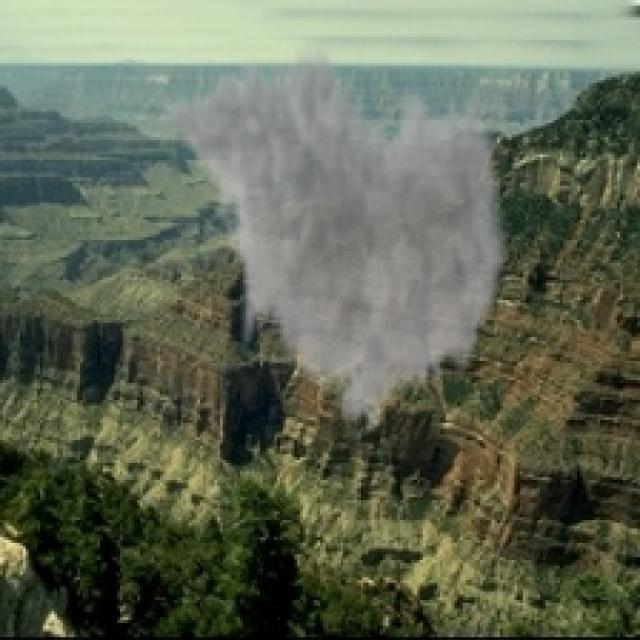smoke: (163, 31, 511, 440)
